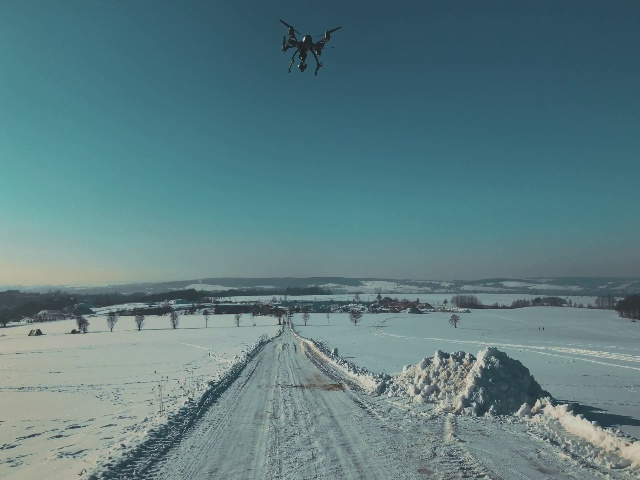drone: (276, 18, 343, 79)
